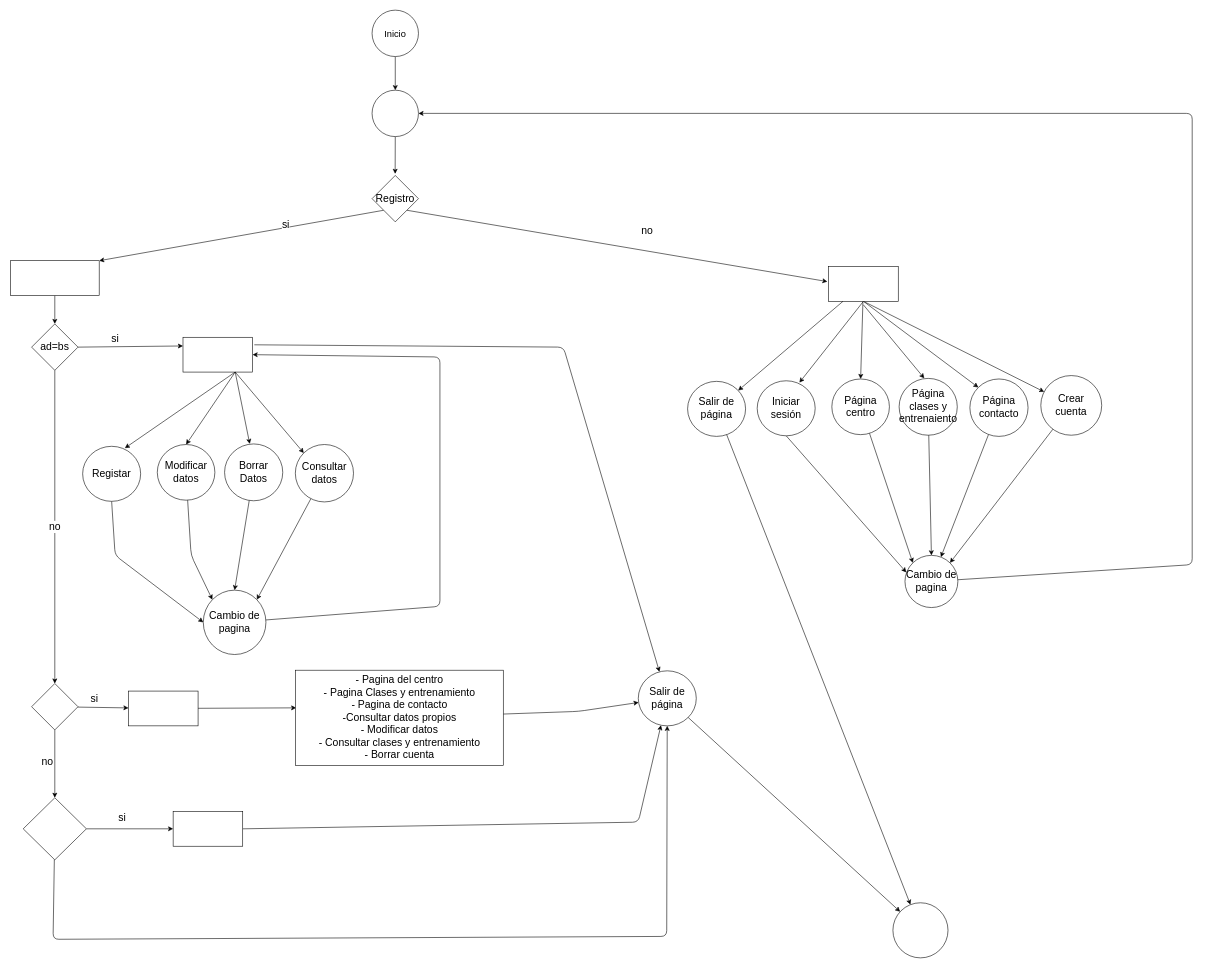
Image size: 1207x968. Some labels were removed from this diagram. Here are the shapes that lost their labels. From the top down, the centre of each, then its label:
At (x=394, y=113): "pagina web".
At (x=54, y=278): "ad= administrador Cli=usuario bs= base de datos".
At (x=863, y=283): "Cliente sin registro".
At (x=217, y=354): "Pagina administrador".
At (x=54, y=706): "Cli=bs".
At (x=163, y=708): "Cliente registrado".
At (x=54, y=828): "Cli != bs ad != bs".
At (x=208, y=828): "Acceso denegado".
At (x=920, y=930): "Fin".
